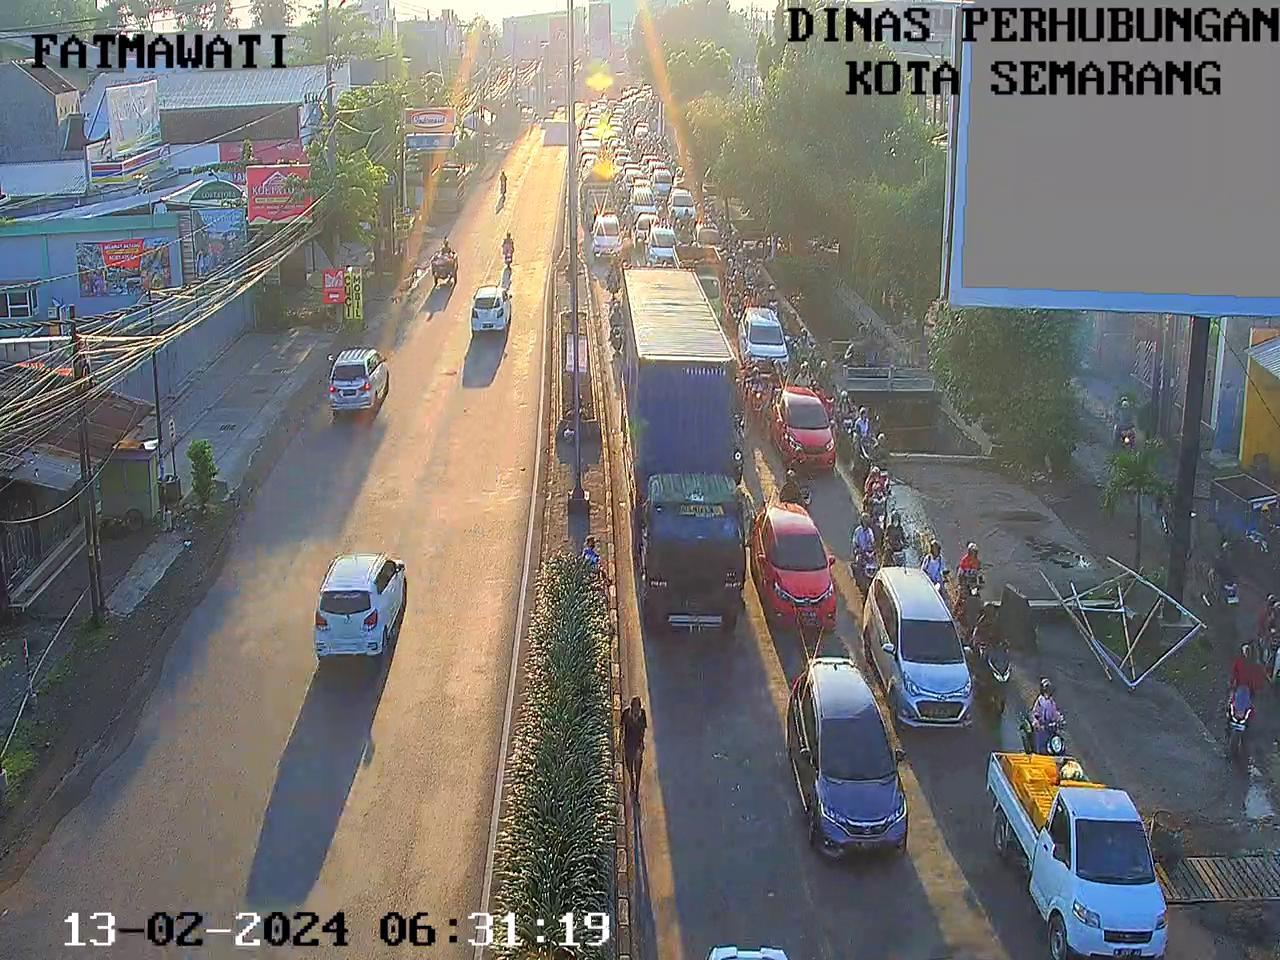car: (983, 741, 1168, 960), (783, 651, 911, 867), (858, 558, 983, 741), (743, 496, 849, 634), (776, 383, 841, 474), (731, 298, 794, 377), (682, 246, 736, 319), (586, 217, 628, 264), (642, 221, 680, 269), (692, 219, 727, 257), (631, 209, 659, 242), (629, 179, 657, 212), (651, 164, 677, 197), (641, 150, 668, 177), (667, 188, 697, 212), (580, 143, 600, 174), (613, 146, 634, 170), (632, 117, 656, 137), (621, 157, 642, 178), (634, 86, 657, 102), (619, 93, 637, 113), (611, 139, 630, 157), (610, 100, 628, 119), (588, 113, 603, 132), (636, 94, 651, 113), (608, 113, 622, 133), (583, 127, 603, 140)
motorcycle: (1020, 672, 1077, 760), (967, 601, 1010, 716), (854, 403, 891, 487), (852, 512, 880, 591), (863, 466, 894, 533), (959, 541, 983, 630), (834, 388, 863, 457), (921, 530, 948, 602), (878, 507, 912, 563), (814, 352, 842, 421), (609, 287, 630, 357), (780, 466, 812, 509), (743, 371, 769, 423), (789, 449, 812, 498), (761, 284, 793, 316), (800, 332, 824, 372), (724, 279, 746, 322), (788, 357, 820, 384), (788, 304, 806, 350), (617, 216, 634, 259), (742, 258, 761, 293), (717, 209, 738, 239), (609, 247, 620, 301), (698, 194, 722, 218), (747, 276, 767, 303), (717, 227, 731, 260), (656, 197, 670, 226), (732, 239, 747, 266), (724, 254, 736, 287), (681, 212, 696, 237), (668, 207, 683, 230), (664, 153, 680, 174), (618, 192, 631, 214), (619, 209, 631, 229), (662, 138, 679, 151), (649, 137, 661, 150), (633, 144, 644, 158), (626, 113, 637, 127), (652, 124, 662, 137), (617, 176, 626, 191), (650, 104, 658, 114), (626, 122, 632, 134), (651, 112, 661, 119), (628, 134, 631, 146), (643, 113, 647, 121)
truck: (622, 263, 747, 640), (580, 169, 623, 231)
